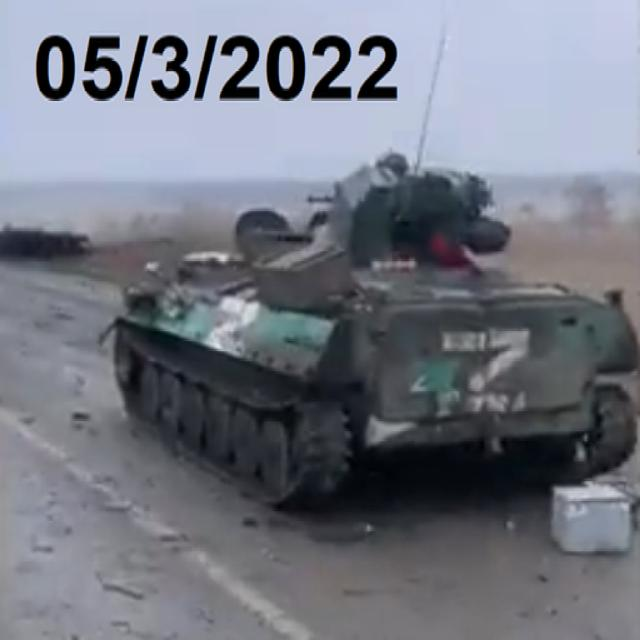APC-IFV: (108, 140, 638, 538)
